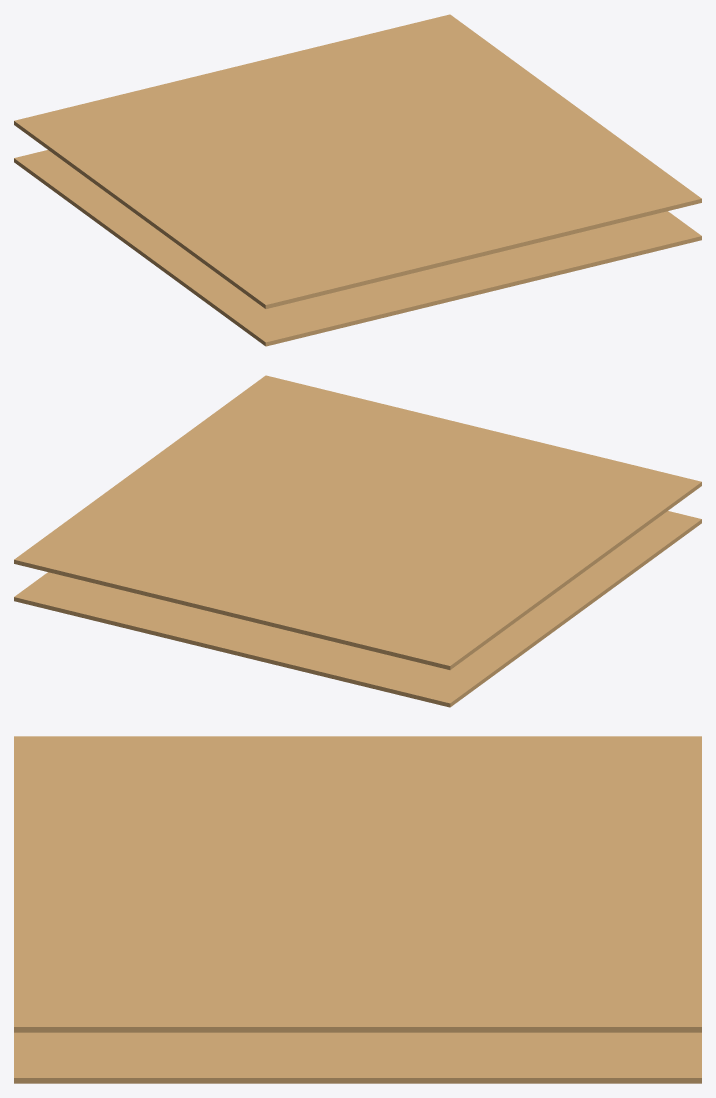
Rendered from board.glb.
3 views of the same model, one above another, from view 1: azimuth 30°, elevation 25°; view 2: azimuth 150°, elevation 25°; view 3: azimuth 270°, elevation 25° (orthographic). The views are drawn at different scales.
Parts seen in each view (by area): view 1: Substrate_Layer_1, Substrate_Layer_0; view 2: Substrate_Layer_1, Substrate_Layer_0; view 3: Substrate_Layer_1, Substrate_Layer_0.
Boxes of the visible parts, left/top/right/bottom form: Substrate_Layer_1: left=14, top=14, right=701, bottom=308; Substrate_Layer_0: left=14, top=150, right=701, bottom=346; Substrate_Layer_1: left=14, top=375, right=701, bottom=669; Substrate_Layer_0: left=14, top=511, right=701, bottom=707; Substrate_Layer_1: left=14, top=736, right=701, bottom=1032; Substrate_Layer_0: left=14, top=1032, right=701, bottom=1083.
Size of the model in its own units: 0.01 by 0.000909 by 0.01.
